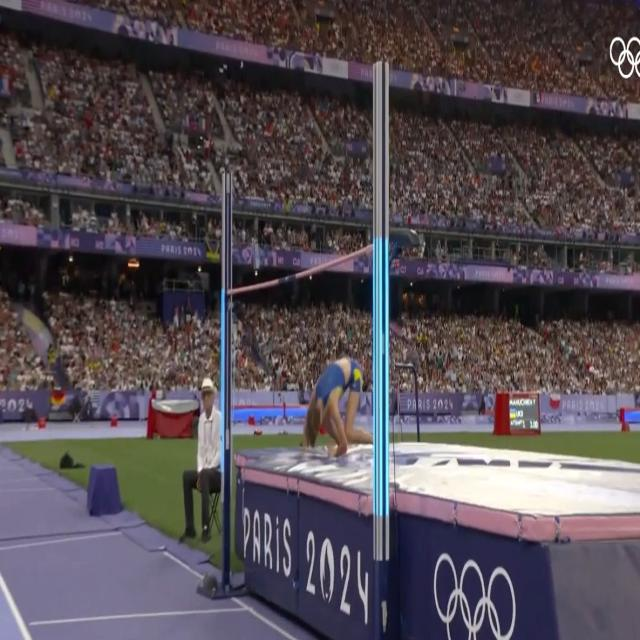land: (300, 352, 367, 458)
